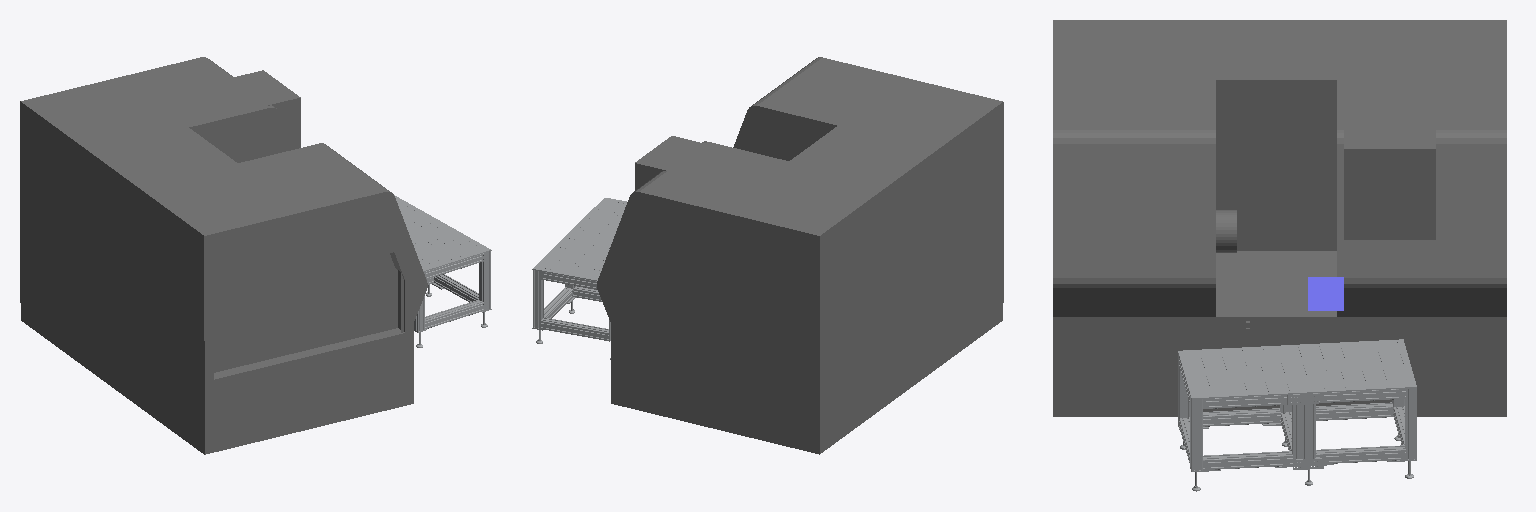
robot.urdf — robot:
<?xml version="1.0" encoding="UTF-8" ?>
<robot name="robot">
    <link name="world" />
    <link name="machine">
        <visual>
            <geometry>
                <mesh filename="package://robotplus_description/meshes/machine.STL" />
            </geometry>
            <material name="">
                <color rgba="0.5 0.5 0.5 1" />
            </material>
        </visual>
        <collision>
            <origin xyz="0 0 0" rpy="0 0 0" />
            <geometry>
                <mesh filename="package://robotplus_description/meshes/machine.STL" />
            </geometry>
        </collision>
        <inertial>
            <mass value="0.1" />
            <origin xyz="0 0 0" rpy="0 0 0" />
            <inertia ixx="0.03" iyy="0.03" izz="0.03" ixy="0.0" ixz="0.0" iyz="0.0" />
        </inertial>
    </link>
    <link name="base">
        <visual>
            <geometry>
                <mesh filename="package://robotplus_description/meshes/base.STL" />
            </geometry>
            <material name="">
                <color rgba="0.67 0.68 0.69 1" />
            </material>
        </visual>
        <collision>
            <origin xyz="0 0 0" rpy="0 0 0" />
            <geometry>
                <mesh filename="package://robotplus_description/meshes/base.STL" />
            </geometry>
        </collision>
        <inertial>
            <mass value="0.1" />
            <origin xyz="0 0 0" rpy="0 0 0" />
            <inertia ixx="0.03" iyy="0.03" izz="0.03" ixy="0.0" ixz="0.0" iyz="0.0" />
        </inertial>
    </link>
    <link name="base_link">
        <visual>
            <geometry>
                <mesh filename="package://robotplus_description/meshes/UR10e/base_link.STL" />
            </geometry>
            <material name="">
                <color rgba="0.594117647058824 0.594117647058824 0.594117647058824 1" />
            </material>
        </visual>
        <collision>
            <origin xyz="0 0 0" rpy="0 0 0" />
            <geometry>
                <mesh filename="package://robotplus_description/meshes/UR10e/base_link.STL" />
            </geometry>
        </collision>
        <inertial>
            <mass value="0.1" />
            <origin xyz="0 0 0" rpy="0 0 0" />
            <inertia ixx="0.03" iyy="0.03" izz="0.03" ixy="0.0" ixz="0.0" iyz="0.0" />
        </inertial>
    </link>
    <link name="link1">
        <visual>
            <geometry>
                <mesh filename="package://robotplus_description/meshes/UR10e/link1.STL" />
            </geometry>
            <material name="">
                <color rgba="0.79216 0.81961 0.93333 1" />
            </material>
        </visual>
        <collision>
            <origin xyz="0 0 0" rpy="0 0 0" />
            <geometry>
                <mesh filename="package://robotplus_description/meshes/UR10e/link1.STL" />
            </geometry>
        </collision>
        <inertial>
            <mass value="0.1" />
            <origin xyz="0 0 0" rpy="0 0 0" />
            <inertia ixx="0.03" iyy="0.03" izz="0.03" ixy="0.0" ixz="0.0" iyz="0.0" />
        </inertial>
    </link>
    <link name="link2">
        <visual>
            <geometry>
                <mesh filename="package://robotplus_description/meshes/UR10e/link2.STL" />
            </geometry>
            <material name="">
                <color rgba="0.79216 0.81961 0.93333 1" />
            </material>
        </visual>
        <collision>
            <origin xyz="0 0 0" rpy="0 0 0" />
            <geometry>
                <mesh filename="package://robotplus_description/meshes/UR10e/link2.STL" />
            </geometry>
        </collision>
        <inertial>
            <mass value="0.1" />
            <origin xyz="0 0 0" rpy="0 0 0" />
            <inertia ixx="0.03" iyy="0.03" izz="0.03" ixy="0.0" ixz="0.0" iyz="0.0" />
        </inertial>
    </link>
    <link name="link3">
        <visual>
            <geometry>
                <mesh filename="package://robotplus_description/meshes/UR10e/link3.STL" />
            </geometry>
            <material name="">
                <color rgba="0.79216 0.81961 0.93333 1" />
            </material>
        </visual>
        <collision>
            <origin xyz="0 0 0" rpy="0 0 0" />
            <geometry>
                <mesh filename="package://robotplus_description/meshes/UR10e/link3.STL" />
            </geometry>
        </collision>
        <inertial>
            <mass value="0.1" />
            <origin xyz="0 0 0" rpy="0 0 0" />
            <inertia ixx="0.03" iyy="0.03" izz="0.03" ixy="0.0" ixz="0.0" iyz="0.0" />
        </inertial>
    </link>
    <link name="link4">
        <visual>
            <geometry>
                <mesh filename="package://robotplus_description/meshes/UR10e/link4.STL" />
            </geometry>
            <material name="">
                <color rgba="0.79216 0.81961 0.93333 1" />
            </material>
        </visual>
        <collision>
            <origin xyz="0 0 0" rpy="0 0 0" />
            <geometry>
                <mesh filename="package://robotplus_description/meshes/UR10e/link4.STL" />
            </geometry>
        </collision>
        <inertial>
            <mass value="0.1" />
            <origin xyz="0 0 0" rpy="0 0 0" />
            <inertia ixx="0.03" iyy="0.03" izz="0.03" ixy="0.0" ixz="0.0" iyz="0.0" />
        </inertial>
    </link>
    <link name="link5">
        <visual>
            <geometry>
                <mesh filename="package://robotplus_description/meshes/UR10e/link5.STL" />
            </geometry>
            <material name="">
                <color rgba="0.79216 0.81961 0.93333 1" />
            </material>
        </visual>
        <collision>
            <origin xyz="0 0 0" rpy="0 0 0" />
            <geometry>
                <mesh filename="package://robotplus_description/meshes/UR10e/link5.STL" />
            </geometry>
        </collision>
        <inertial>
            <mass value="0.1" />
            <origin xyz="0 0 0" rpy="0 0 0" />
            <inertia ixx="0.03" iyy="0.03" izz="0.03" ixy="0.0" ixz="0.0" iyz="0.0" />
        </inertial>
    </link>
    <link name="link6">
        <visual>
            <geometry>
                <mesh filename="package://robotplus_description/meshes/UR10e/link6.STL" />
            </geometry>
            <material name="">
                <color rgba="0.79216 0.81961 0.93333 1" />
            </material>
        </visual>
        <collision>
            <origin xyz="0 0 0" rpy="0 0 0" />
            <geometry>
                <mesh filename="package://robotplus_description/meshes/UR10e/link6.STL" />
            </geometry>
        </collision>
        <inertial>
            <mass value="0.1" />
            <origin xyz="0 0 0" rpy="0 0 0" />
            <inertia ixx="0.03" iyy="0.03" izz="0.03" ixy="0.0" ixz="0.0" iyz="0.0" />
        </inertial>
    </link>
    <link name="end" />
    <joint name="link6_end" type="fixed">
        <origin xyz="0 0 0.12" rpy="3.1415 0 1.5708" />
        <parent link="link6" />
        <child link="end" />
        <axis xyz="0 0 0" />
    </joint>
    <link name="gripper_cam_jig">
        <visual>
            <origin xyz="0 0 0" rpy="0 0 0" />
            <geometry>
                <mesh filename="package://robotplus_description/meshes/gripper_cam_jig.STL" />
            </geometry>
            <material name="">
                <color rgba="0.898039215686275 0.917647058823529 0.929411764705882 1" />
            </material>
        </visual>
        <collision>
            <origin xyz="0 0 0" rpy="0 0 0" />
            <geometry>
                <mesh filename="package://robotplus_description/meshes/gripper_cam_jig.STL" />
            </geometry>
        </collision>
        <inertial>
            <mass value="0.1" />
            <origin xyz="0 0 0" rpy="0 0 0" />
            <inertia ixx="0.03" iyy="0.03" izz="0.03" ixy="0.0" ixz="0.0" iyz="0.0" />
        </inertial>
    </link>
    <link name="cam">
        <visual>
            <origin xyz="0 0 0" rpy="0 0 0" />
            <geometry>
                <mesh filename="package://robotplus_description/meshes/cam.STL" />
            </geometry>
            <material name="">
                <color rgba="0.792156862745098 0.819607843137255 0.933333333333333 1" />
            </material>
        </visual>
        <collision>
            <origin xyz="0 0 0" rpy="0 0 0" />
            <geometry>
                <mesh filename="package://robotplus_description/meshes/cam.STL" />
            </geometry>
        </collision>
        <inertial>
            <mass value="0.1" />
            <origin xyz="0 0 0" rpy="0 0 0" />
            <inertia ixx="0.03" iyy="0.03" izz="0.03" ixy="0.0" ixz="0.0" iyz="0.0" />
        </inertial>
    </link>
    <link name="marker_plate">
        <inertial>
			<origin xyz="0.0 0.009 0.0" rpy="0 0 0"/>
			<mass value="2.83099"/>
			<inertia ixx="0.04799" ixy="0.0" ixz="0.0"
				iyy="0.07653" iyz="0.0" izz="0.02914"/>
		</inertial>
        <visual>
            <geometry>
                <mesh filename="package://robotplus_description/models/qr_wall/meshes/qr_wall.dae"/>
            </geometry>
            <material name="">
				<color rgba="0.4980392 0.4980392 1.0 1"/>
			</material>
        </visual>
    </link>

                    <!-- <matrix>0.93969 0 -0.34202 -8.5
                            0 1 0 -10
                            0.34202 0 0.93969 -7.8
                            0 0 0 1</matrix> -->
    <joint name="marker_fixed" type="fixed">
        <origin xyz="1.14 2.05 -0.14" rpy="0 -0.3490658503988659 0"/>
        <parent link="machine"/>
        <child link="marker_plate"/>
    </joint>
    <joint name="jig_cam" type="fixed">
        <origin xyz="-0.0583225279657438 0 -0.0820000000000001" rpy="3.14159265358979 0 1.5707963267949" />
        <parent link="gripper_cam_jig" />
        <child link="cam" />
        <axis xyz="0 0 0" />
    </joint>
    <joint name="machine_fixed" type="fixed">
		<origin xyz="-0.58 -1.52 0" rpy="0 -1.5709 0" />
		<parent link="world" />
		<child link="machine" />
	</joint>
	<joint name="base_fixed" type="fixed">
		<origin xyz="0.42 0.62 0" rpy="-1.5709 0 3.1416"/>
		<parent link="base_link"/>
		<child link="base"/>
	</joint>
	<!-- <joint name="base_link_fixed" type="fixed">
		<origin xyz="0 0 0.77" rpy="0 0 -1.5709"/>
		<parent link="world"/>
		<child link="base_link"/>
	</joint> -->
	<joint name="base_link_fixed" type="fixed">
		<origin xyz="0.1 -0.2 0.77" rpy="0 0 -1.4509"/>
		<parent link="world"/>
		<child link="base_link"/>
	</joint>
    <joint name="q1" type="revolute">
        <origin xyz="0 0 0" rpy="0 0 0" />
        <parent link="base_link" />
        <child link="link1" />
        <axis xyz="0 0 1" />
        <limit lower="-3.14" upper="3.14" effort="100" velocity="10" />
    </joint>
    <joint name="q2" type="revolute">
        <origin xyz="0 0 0.1807" rpy="1.5708 1.5708 0" />
        <parent link="link1" />
        <child link="link2" />
        <axis xyz="0 0 1" />
        <limit lower="-3.14" upper="3.14" effort="100" velocity="10" />
    </joint>
    <joint name="q3" type="revolute">
        <origin xyz="-0.6127 0 0" rpy="0 0 0" />
        <parent link="link2" />
        <child link="link3" />
        <axis xyz="0 0 1" />
        <limit lower="-3.14" upper="3.14" effort="100" velocity="10" />
    </joint>
    <joint name="q4" type="revolute">
        <origin xyz="-0.57155 0 0" rpy="0 0 -1.5708" />
        <parent link="link3" />
        <child link="link4" />
        <axis xyz="0 0 1" />
        <limit lower="-3.14" upper="3.14" effort="100" velocity="10" />
    </joint>
    <joint name="q5" type="revolute">
        <origin xyz="0 0 0.17415" rpy="1.5708 0 0" />
        <parent link="link4" />
        <child link="link5" />
        <axis xyz="0 0 1" />
        <limit lower="-3.14" upper="3.14" effort="100" velocity="10" />
    </joint>
    <joint name="q6" type="revolute">
        <origin xyz="0 0 0.11985" rpy="-1.5708 0 0" />
        <parent link="link5" />
        <child link="link6" />
        <axis xyz="0 0 1" />
        <limit lower="-3.14" upper="3.14" effort="100" velocity="10" />
    </joint>
    <joint name="link6_jig" type="fixed">
        <origin xyz="0 0 0.12" rpy="3.1416 0 1.5709" />
        <parent link="link6" />
        <child link="gripper_cam_jig" />
        <axis xyz="0 0 0" />
    </joint>
    <transmission name="trans_q1">
        <type>transmission_interface/SimpleTransmission</type>
        <joint name="q1">
            <hardwareInterface>hardware_interface/PositionJointInterface</hardwareInterface>
        </joint>
        <actuator name="q1_motor">
            <hardwareInterface>hardware_interface/PositionJointInterface</hardwareInterface>
            <mechanicalReduction>1</mechanicalReduction>
        </actuator>
    </transmission>
    <transmission name="trans_q2">
        <type>transmission_interface/SimpleTransmission</type>
        <joint name="q2">
            <hardwareInterface>hardware_interface/PositionJointInterface</hardwareInterface>
        </joint>
        <actuator name="q2_motor">
            <hardwareInterface>hardware_interface/PositionJointInterface</hardwareInterface>
            <mechanicalReduction>1</mechanicalReduction>
        </actuator>
    </transmission>
    <transmission name="trans_q3">
        <type>transmission_interface/SimpleTransmission</type>
        <joint name="q3">
            <hardwareInterface>hardware_interface/PositionJointInterface</hardwareInterface>
        </joint>
        <actuator name="q3_motor">
            <hardwareInterface>hardware_interface/PositionJointInterface</hardwareInterface>
            <mechanicalReduction>1</mechanicalReduction>
        </actuator>
    </transmission>
    <transmission name="trans_q4">
        <type>transmission_interface/SimpleTransmission</type>
        <joint name="q4">
            <hardwareInterface>hardware_interface/PositionJointInterface</hardwareInterface>
        </joint>
        <actuator name="q4_motor">
            <hardwareInterface>hardware_interface/PositionJointInterface</hardwareInterface>
            <mechanicalReduction>1</mechanicalReduction>
        </actuator>
    </transmission>
    <transmission name="trans_q5">
        <type>transmission_interface/SimpleTransmission</type>
        <joint name="q5">
            <hardwareInterface>hardware_interface/PositionJointInterface</hardwareInterface>
        </joint>
        <actuator name="q5_motor">
            <hardwareInterface>hardware_interface/PositionJointInterface</hardwareInterface>
            <mechanicalReduction>1</mechanicalReduction>
        </actuator>
    </transmission>
    <transmission name="trans_q6">
        <type>transmission_interface/SimpleTransmission</type>
        <joint name="q6">
            <hardwareInterface>hardware_interface/PositionJointInterface</hardwareInterface>
        </joint>
        <actuator name="q6_motor">
            <hardwareInterface>hardware_interface/PositionJointInterface</hardwareInterface>
            <mechanicalReduction>1</mechanicalReduction>
        </actuator>
    </transmission>
    <gazebo>
        <plugin name="gazebo_ros_control" filename="libgazebo_ros_control.so">
            <robotNamespace>/</robotNamespace>
        </plugin>
    </gazebo>
    <link name="cam_optical" />
    <joint name="cam_joint" type="fixed">
        <origin xyz="0 0 0.02495" rpy="-1.5708 -1.5708 3.1416" />
        <parent link="cam" />
        <child link="cam_optical" />
        <axis xyz="0 0 0" />
    </joint>
    <gazebo reference="cam_optical">
        <sensor type="camera" name="Realsense">
            <always_on>true</always_on>
            <visualize>true</visualize>
            <camera>
                <horizontal_fov>1.085595</horizontal_fov>
                <image>
                    <width>640</width>
                    <height>480</height>
                    <format>R8G8B8</format>
                </image>
                <clip>
                    <near>0.01</near>
                    <far>100</far>
                </clip>
            </camera>
            <plugin name="camera_controller" filename="libgazebo_ros_camera.so">
                <alwaysOn>true</alwaysOn>
                <updateRate>30.0</updateRate>
                <cameraName>camera</cameraName>
                <frameName>cam_optical</frameName>
                <imageTopicName>rgb/image_raw</imageTopicName>
                <cameraInfoTopicName>rgb/camera_info</cameraInfoTopicName>
                <hackBaselink>0.07</hackBaselink>
                <distortionK1>0.0</distortionK1>
                <distortionK2>0.0</distortionK2>
                <distortionK3>0.0</distortionK3>
                <distortionT1>0.0</distortionT1>
                <distortionT2>0.0</distortionT2>
            </plugin>
        </sensor>
    </gazebo>
    <gazebo reference="machine">
        <material>Gazebo/Grey</material>
    </gazebo>
    <gazebo reference="base">
        <turnGravityOff>true</turnGravityOff>
     </gazebo>
</robot>

--- Facts derived from the render (not from the file) ---
3 views of the same robot in one strip: view 1: azimuth 30°, elevation 25°; view 2: azimuth 150°, elevation 25°; view 3: azimuth 270°, elevation 25° (orthographic).
Model robot with 15 links and 14 joints (6 revolute, 8 fixed), rooted at world, posed all joints at 0.
Links seen in each view (by area): view 1: machine, base; view 2: machine, base; view 3: machine, base, marker_plate.
Boxes of the visible links, x1,y1,x2,y2 form: machine: (20,57,427,454); base: (394,195,491,347); machine: (597,57,1003,454); base: (532,198,626,359); machine: (1053,20,1506,416); base: (1178,339,1416,491); marker_plate: (1308,277,1343,310).
Size in the robot's own frame: 3.45 by 3.2 by 2.1 metres.
3 mesh visuals loaded from 12 distinct referenced files (2 binary STL, 1 Collada DAE); not drawn: 9 (reference not matched to a file when rendering).